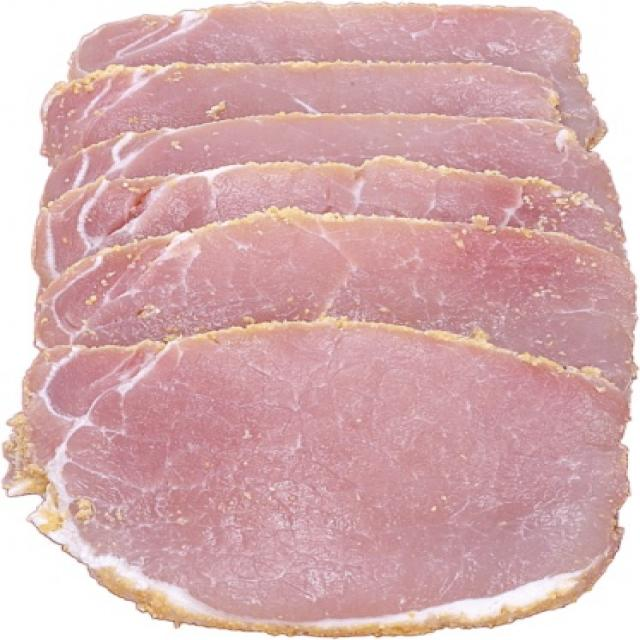Pork: (0, 317, 636, 637), (33, 204, 637, 414), (28, 165, 625, 303)
